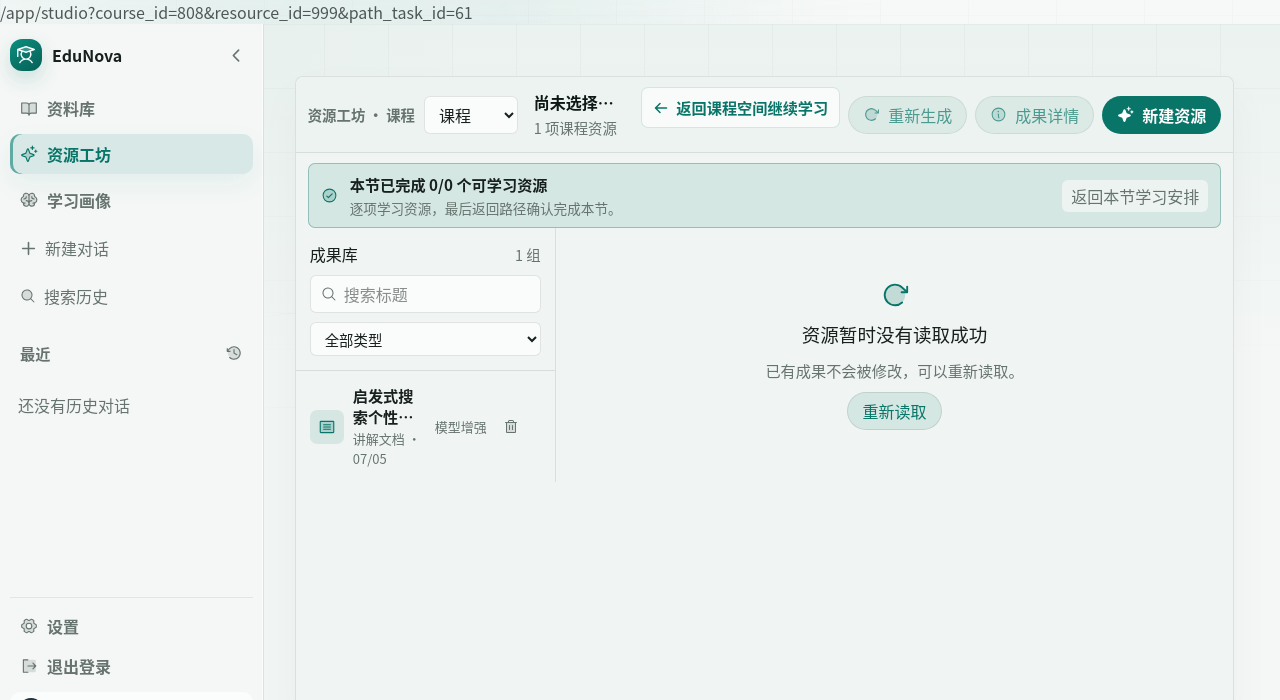
Test: StudioPage resource generation › leaves task context when the user explicitly selects a different library resource
Click the button with aria-label "打开成果 ".
click(398, 427)  # box [310,385,487,468]
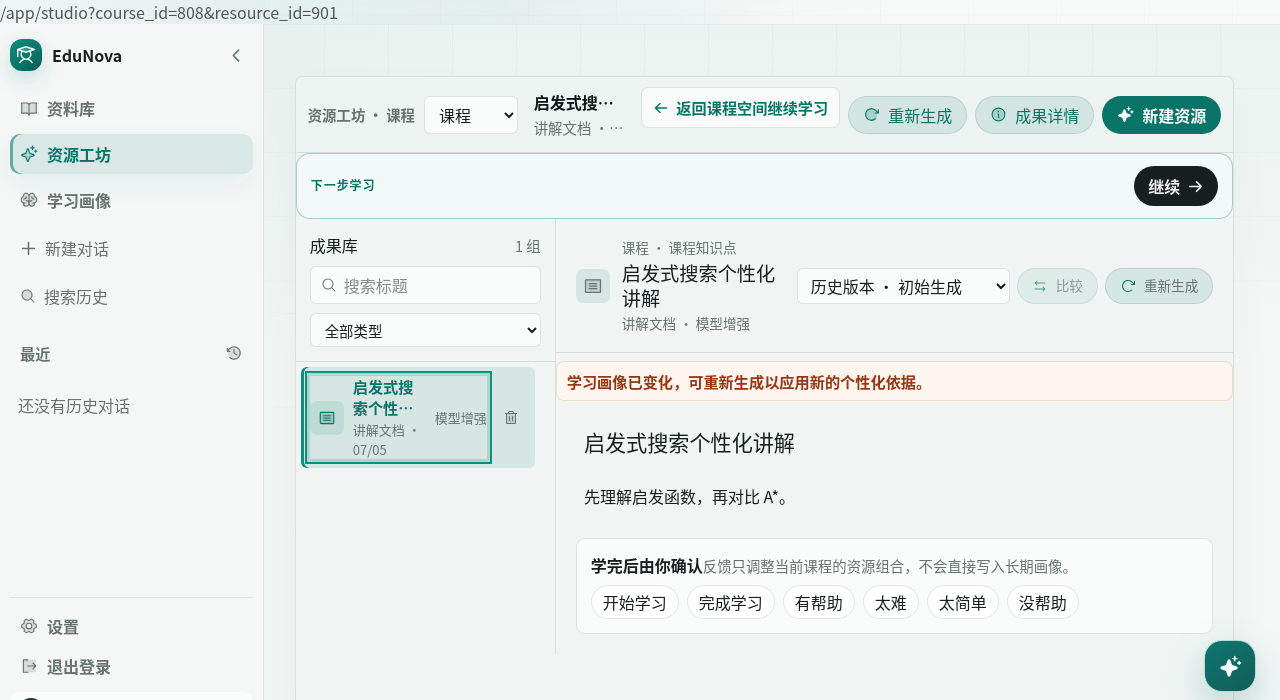
Result: the text with test id "studio-location" no longer shows "path_task_id" at [0,0,338,24]
Result: the text with test id "studio-location" shows "resource_id=901" at [88,0,338,24]
Result: the element named "资源完整内容" is shown at [556,219,1233,634]
